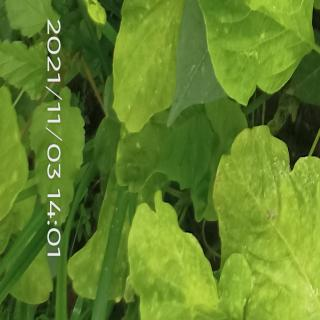karat_putih: (209, 113, 320, 320), (131, 195, 237, 320)
virus_keriting: (306, 0, 320, 39)
